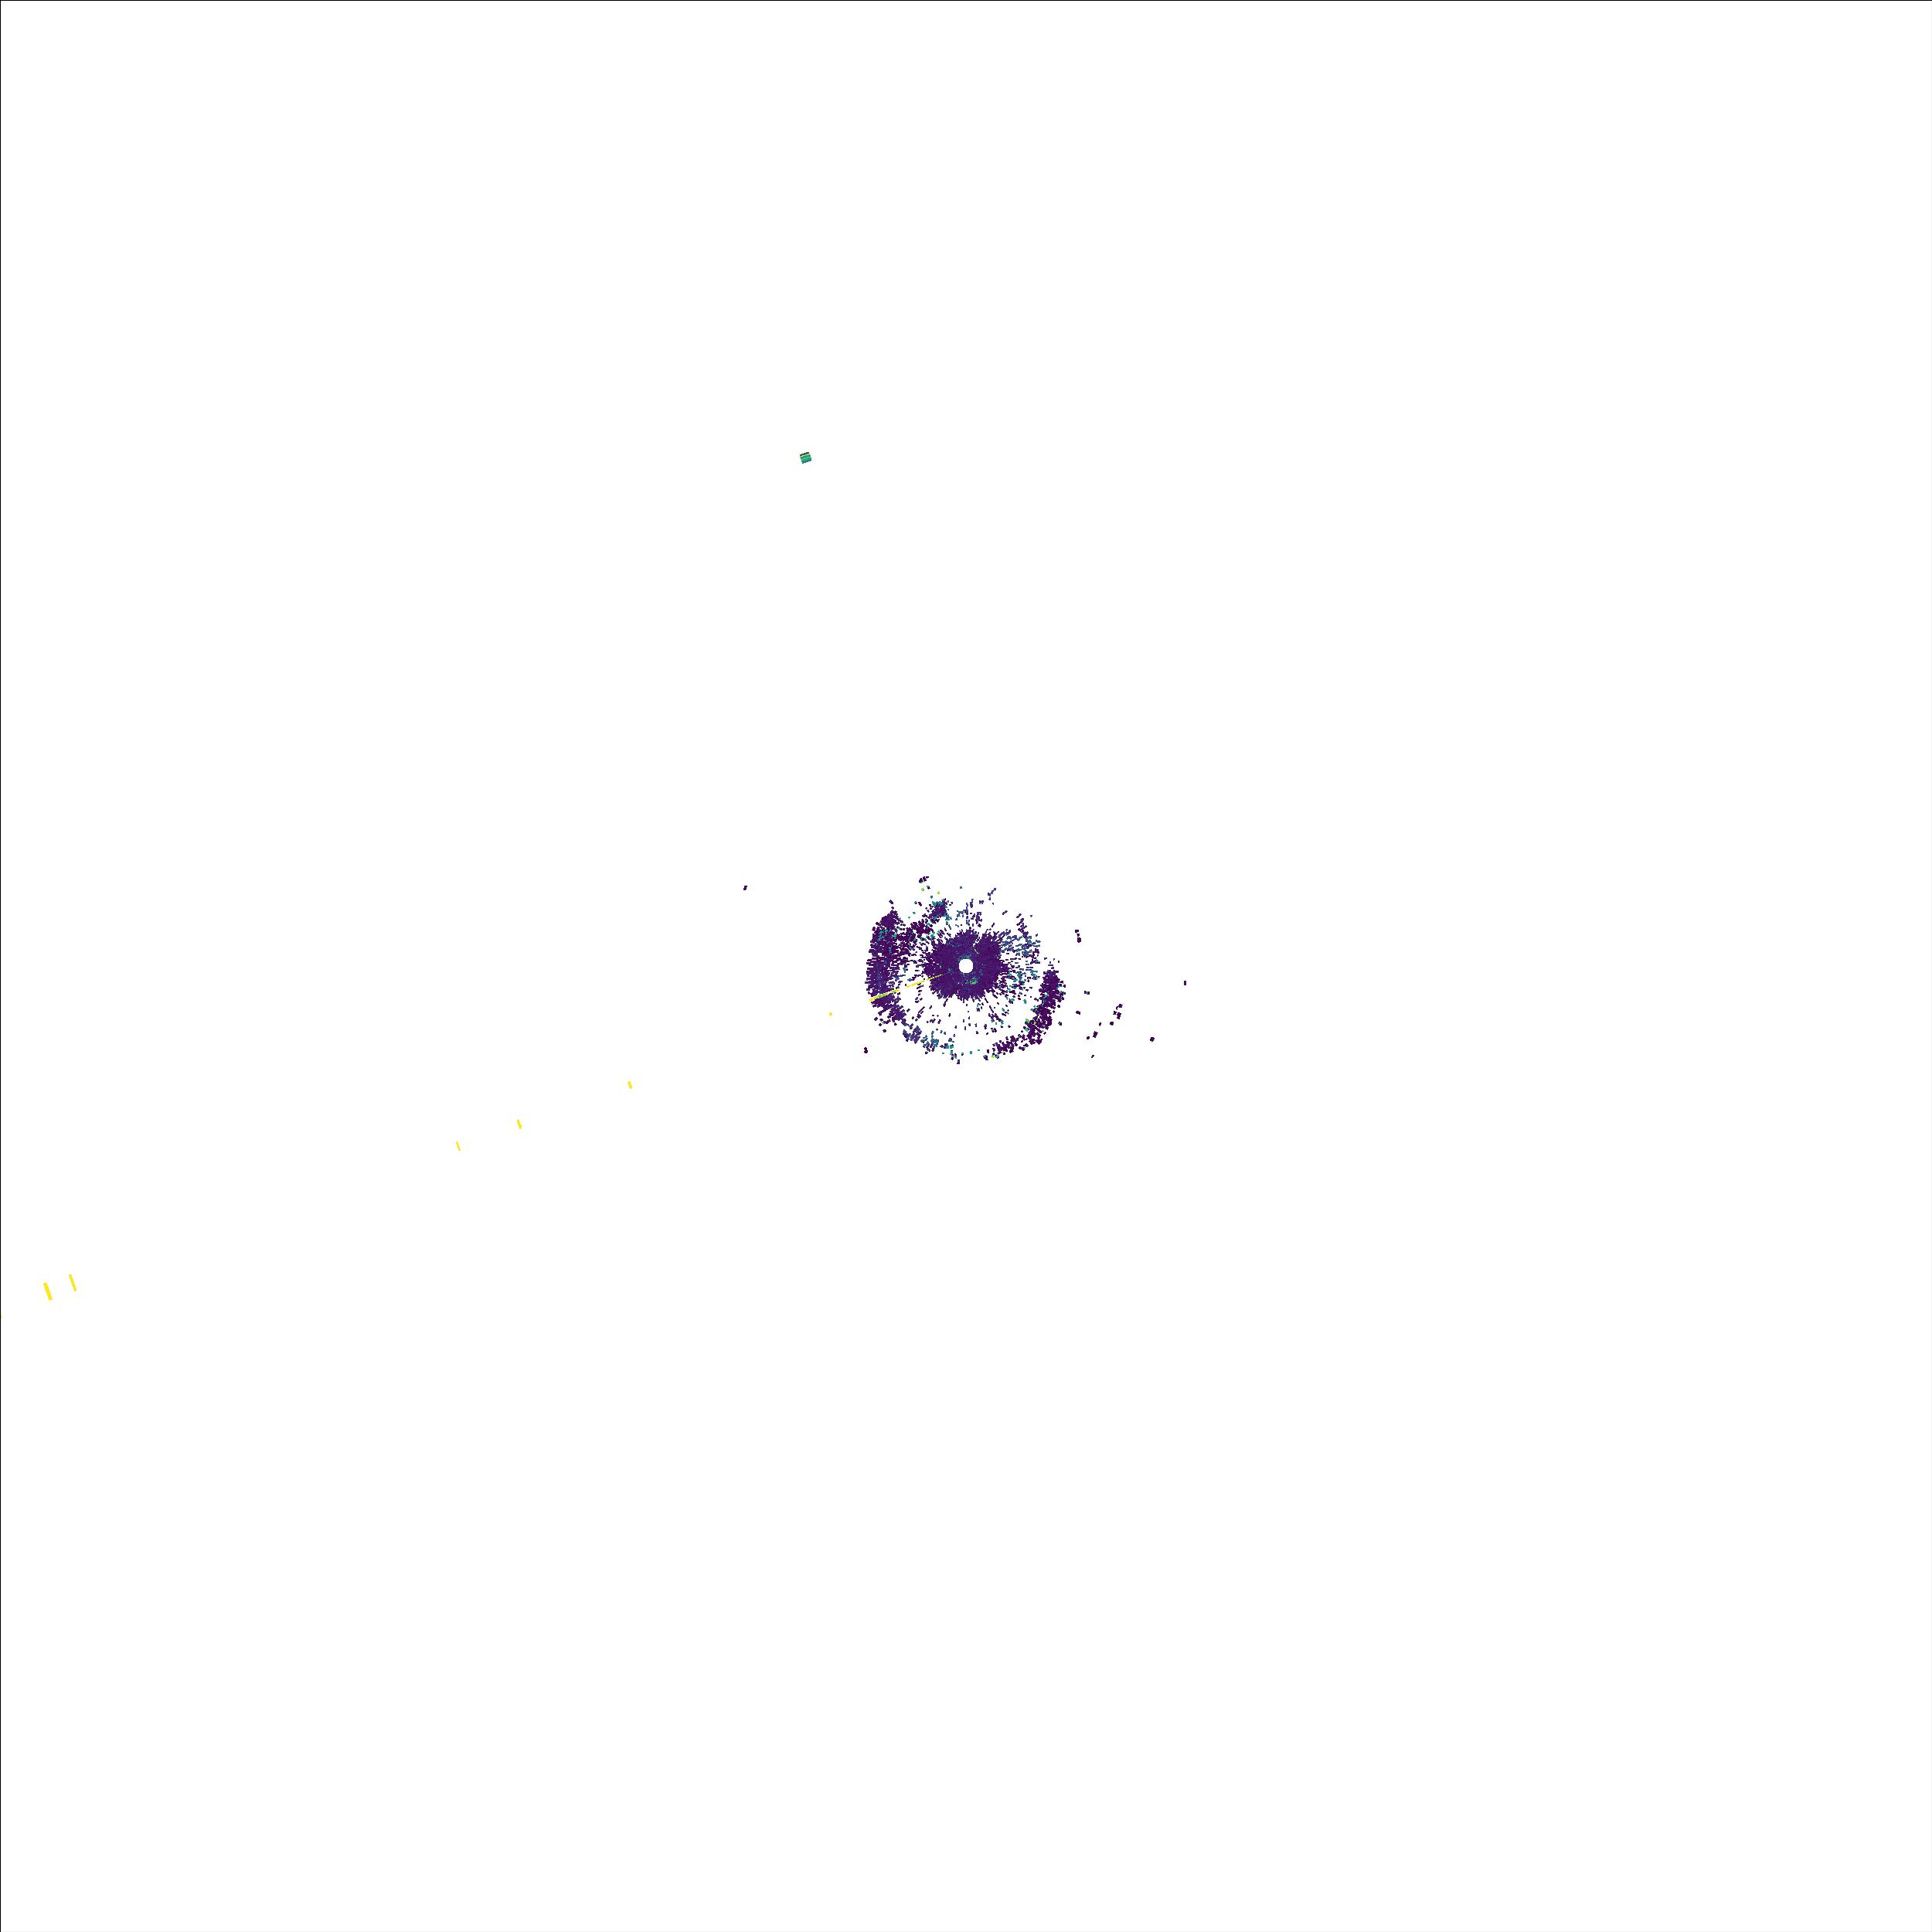fall: (782, 432, 830, 478)
